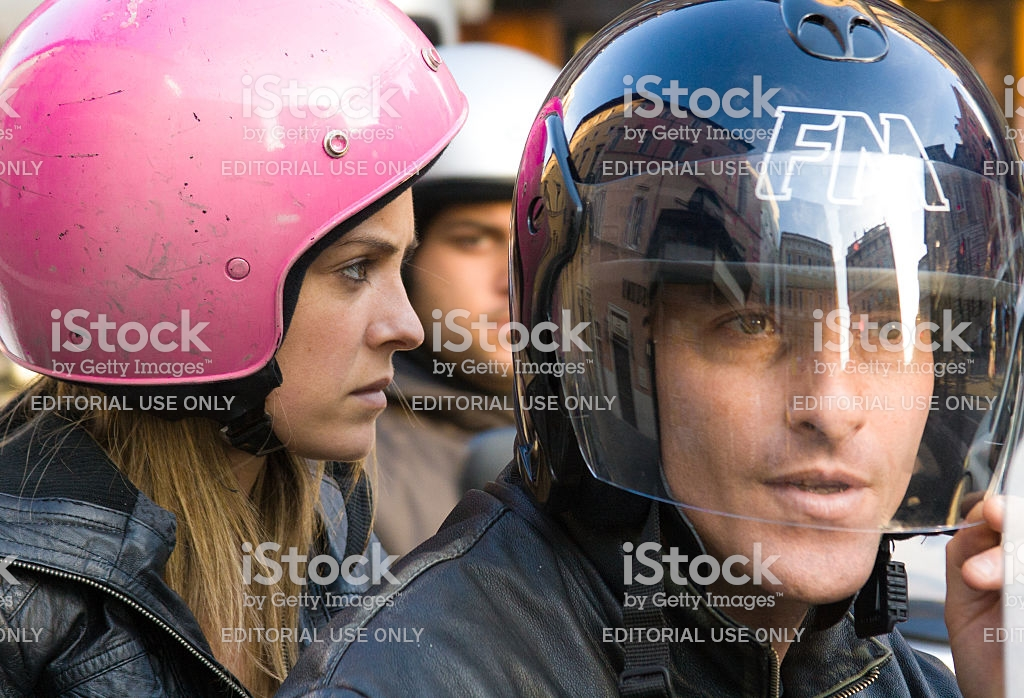helmet: (522, 11, 1014, 487), (4, 11, 451, 371)
